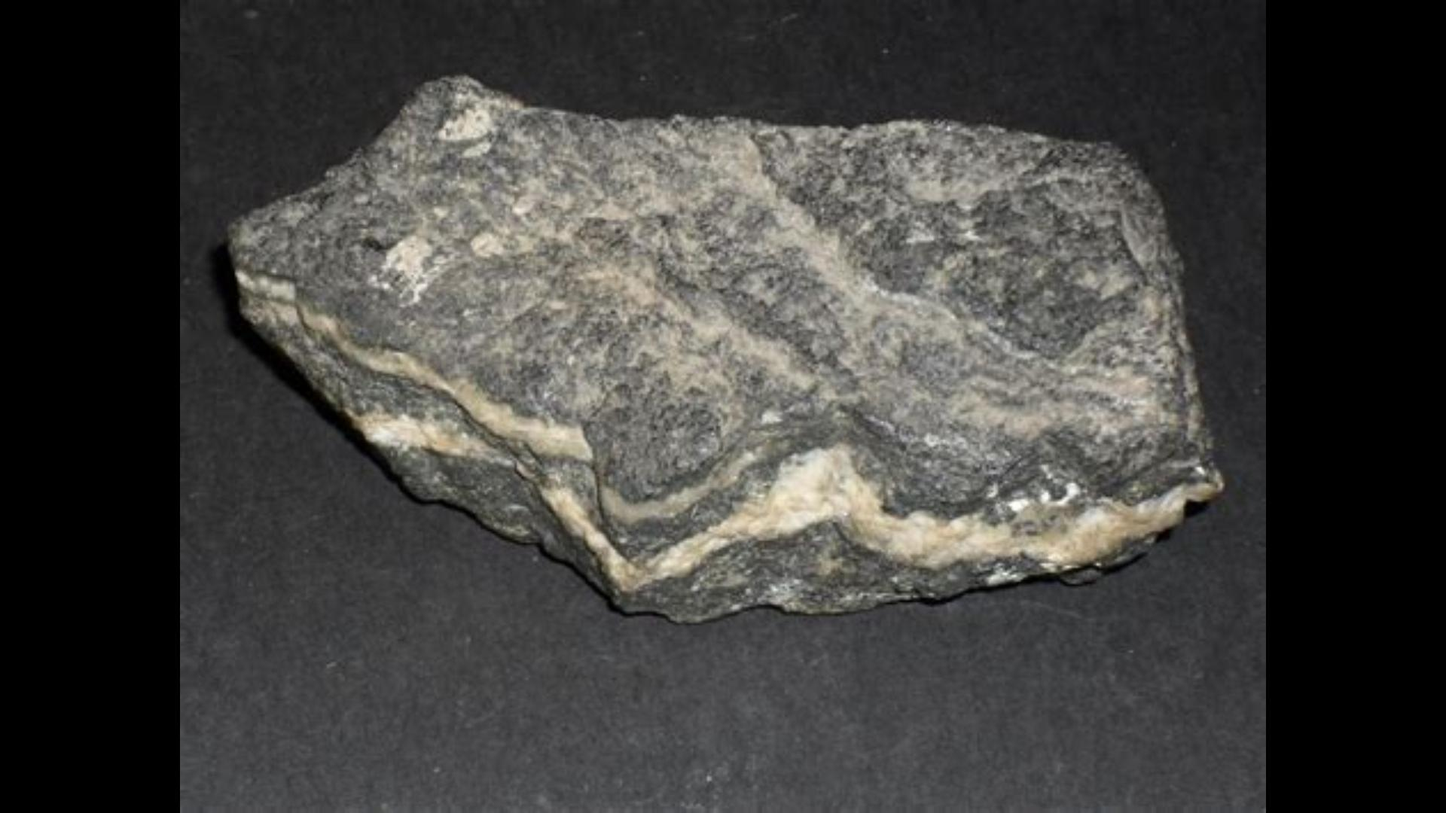rock: (230, 78, 1220, 609)
